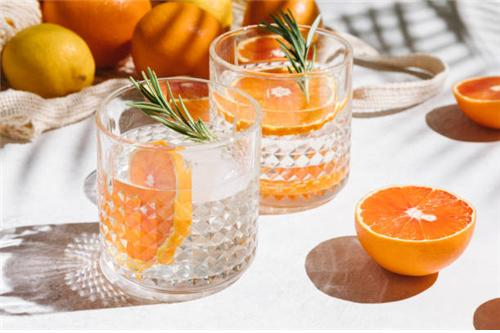alcohol: (94, 76, 258, 293), (208, 22, 353, 209)
